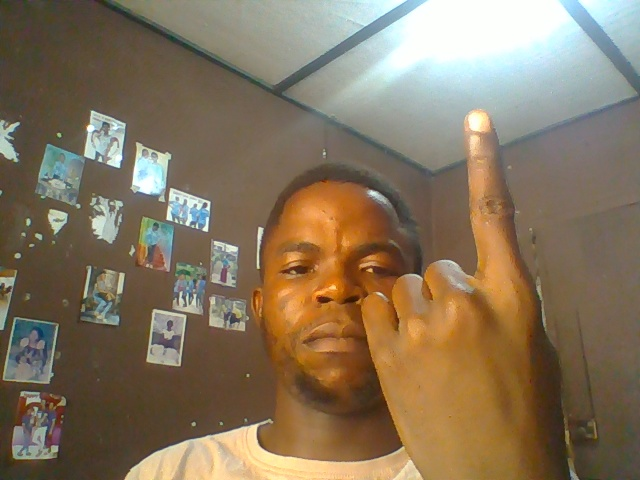Up: (357, 100, 598, 467)
